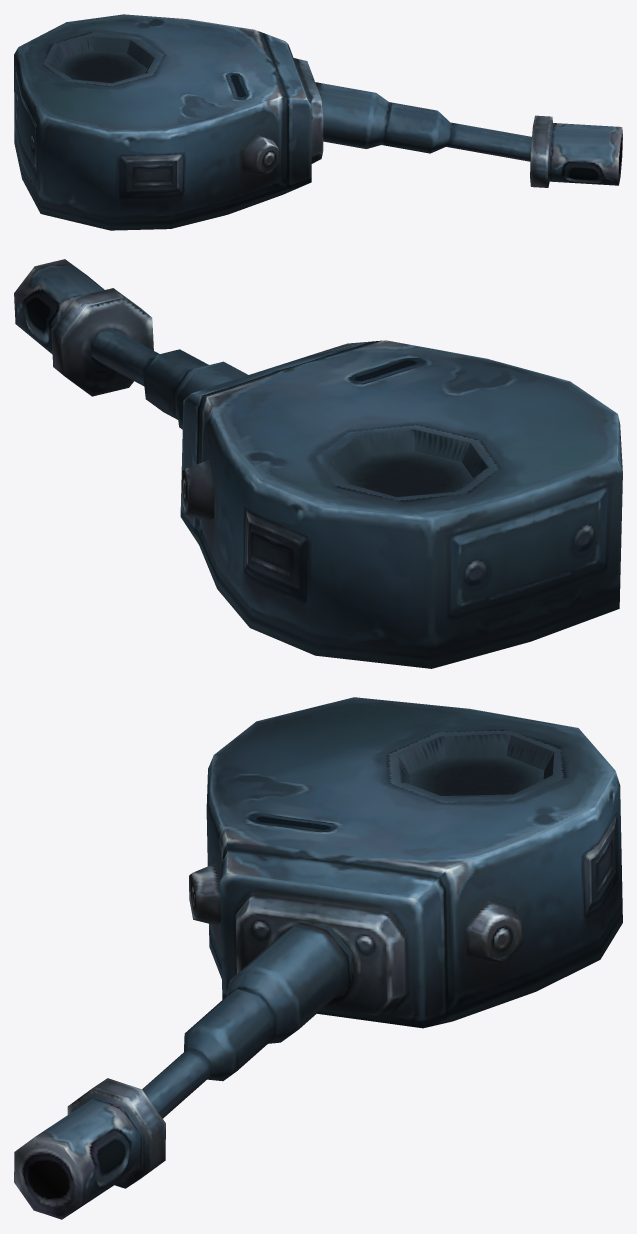
The model's file is T_tank_break_03.fbx.
3 renders of one model, top to bottom at view 1: azimuth 30°, elevation 25°; view 2: azimuth 150°, elevation 25°; view 3: azimuth 270°, elevation 25°, orthographic. The views are drawn at different scales.
Parts seen in each view (by area): view 1: T_tank_break_03; view 2: T_tank_break_03; view 3: T_tank_break_03.
Part boxes in pixels (x1,y1,x2,y2): T_tank_break_03: (14,14,622,230); T_tank_break_03: (14,259,622,668); T_tank_break_03: (14,697,622,1219).
Bounding box in the file's own units: 465 × 105 × 326.
Materials: 1 (1 with a texture image).
